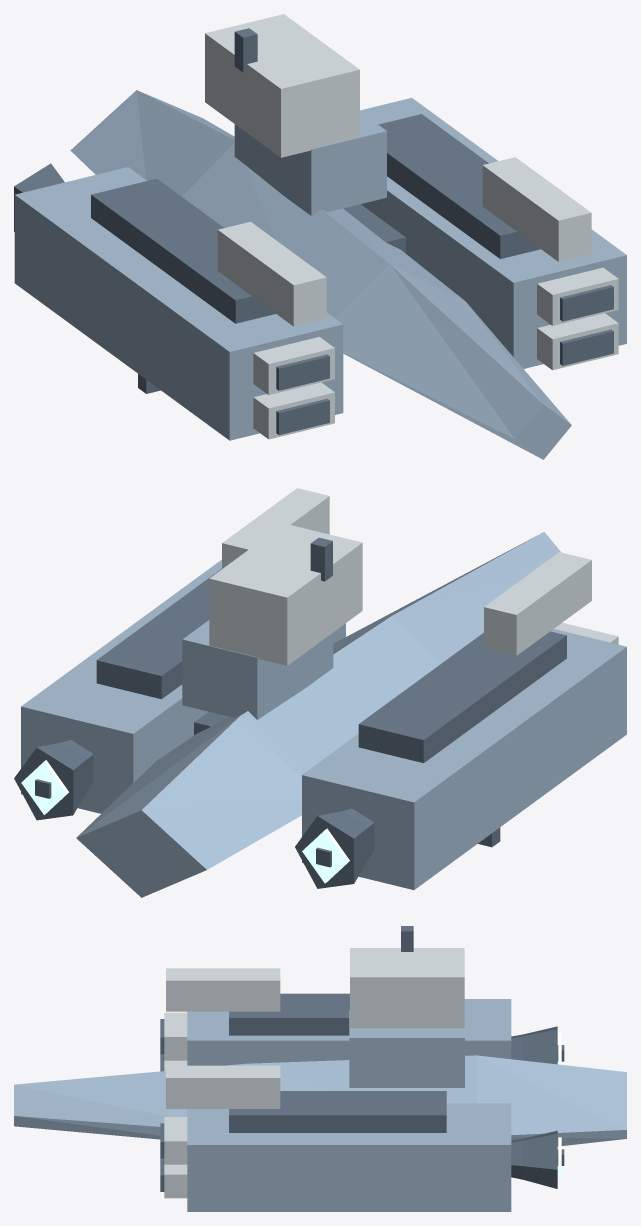
The picture shows the model from 3 angles, top to bottom: view 1: azimuth 30°, elevation 25°; view 2: azimuth 150°, elevation 25°; view 3: azimuth 270°, elevation 25°; orthographic projection. The views are drawn at different scales.
Size of the model in its own units: 12.06 by 8.63 by 21.41.
